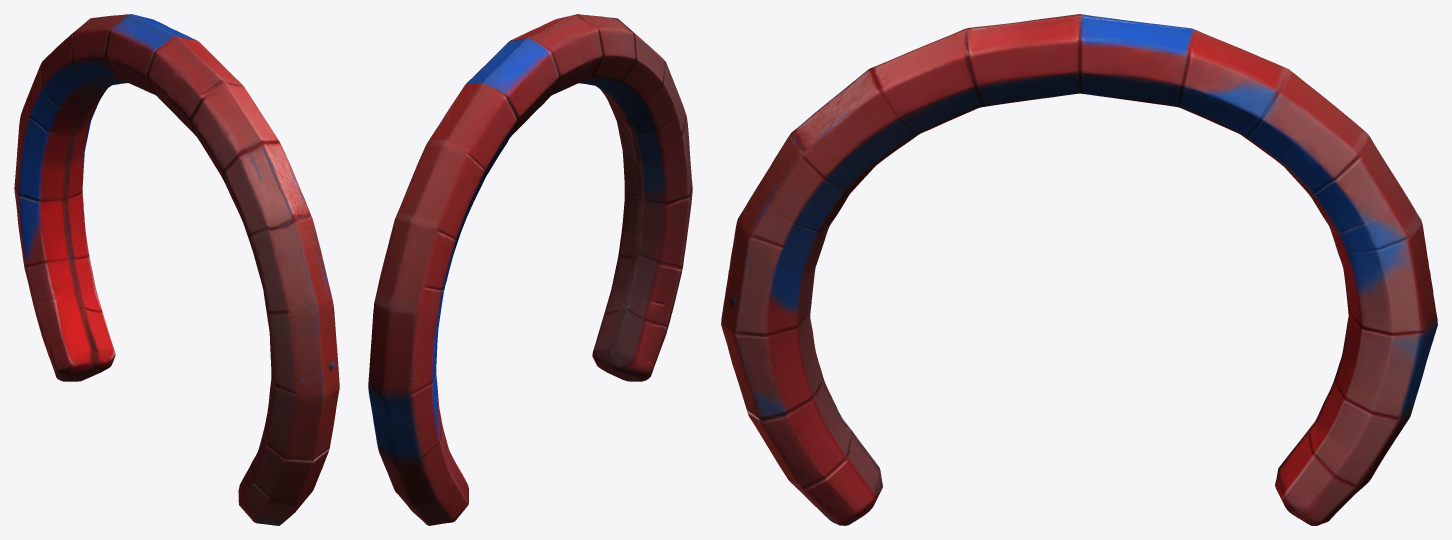
Rendered from 3d_Iman.fbx.
3 views of the same model, side by side, from view 1: azimuth 30°, elevation 25°; view 2: azimuth 150°, elevation 25°; view 3: azimuth 270°, elevation 25° (orthographic). The views are drawn at different scales.
Visible parts, largest first — view 1: Mesh1.0; view 2: Mesh1.0; view 3: Mesh1.0.
Part boxes in pixels (left/top/right/bottom): Mesh1.0: left=14, top=14, right=339, bottom=525; Mesh1.0: left=368, top=14, right=692, bottom=525; Mesh1.0: left=721, top=14, right=1437, bottom=525.
Size of the model in its own units: 23.6 by 156 by 200.
1 material, 1 textured.
